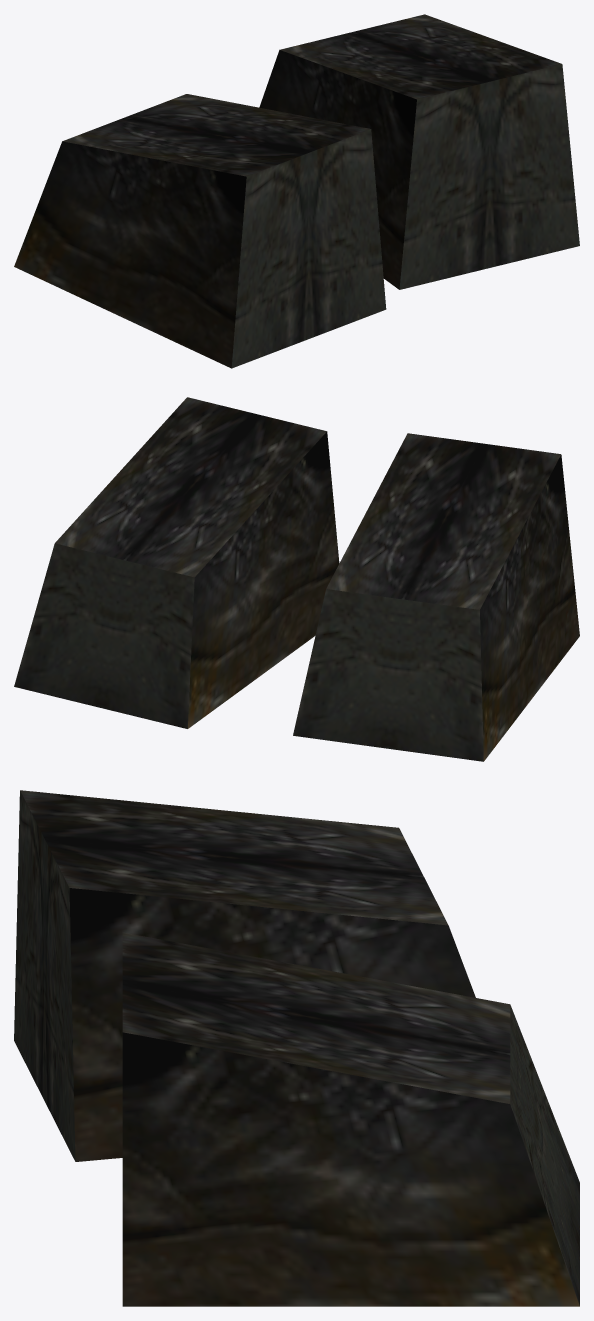
Rendered from arm_jacket_boots.obj.
3 renders of one model, top to bottom at view 1: azimuth 30°, elevation 25°; view 2: azimuth 150°, elevation 25°; view 3: azimuth 270°, elevation 25°, orthographic. The views are drawn at different scales.
Parts seen in each view (by area): view 1: arm_jacket_boot.001_Cube.005; view 2: arm_jacket_boot.001_Cube.005; view 3: arm_jacket_boot.001_Cube.005.
Boxes of the visible parts, x1=… form: arm_jacket_boot.001_Cube.005: x1=14, y1=14, x2=579, y2=368; arm_jacket_boot.001_Cube.005: x1=14, y1=397, x2=579, y2=761; arm_jacket_boot.001_Cube.005: x1=14, y1=790, x2=579, y2=1306.
Bounding box in the file's own units: 3.17 × 1.27 × 2.47.
